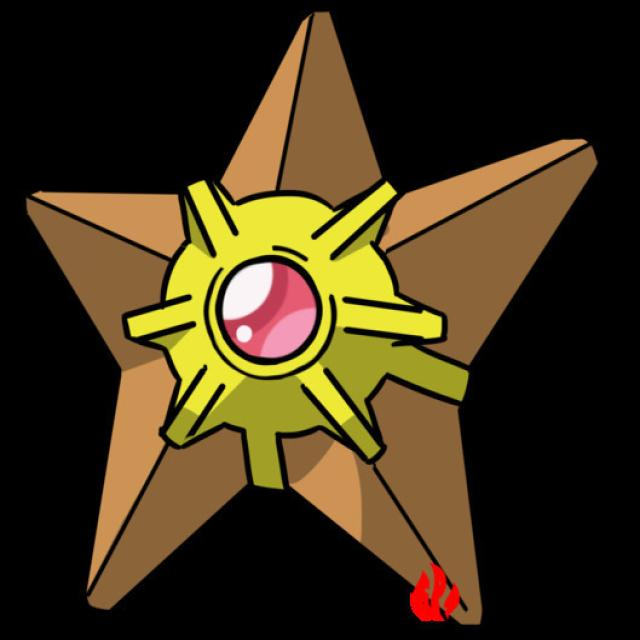Staryu: (51, 1, 598, 630)
